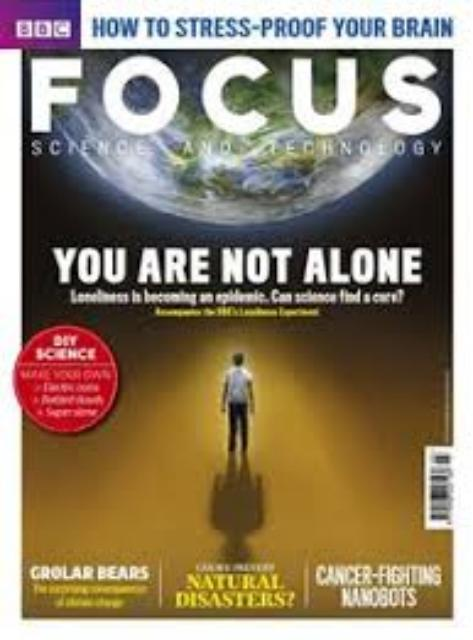cardboard paper: (21, 47, 454, 619), (15, 603, 451, 620)
